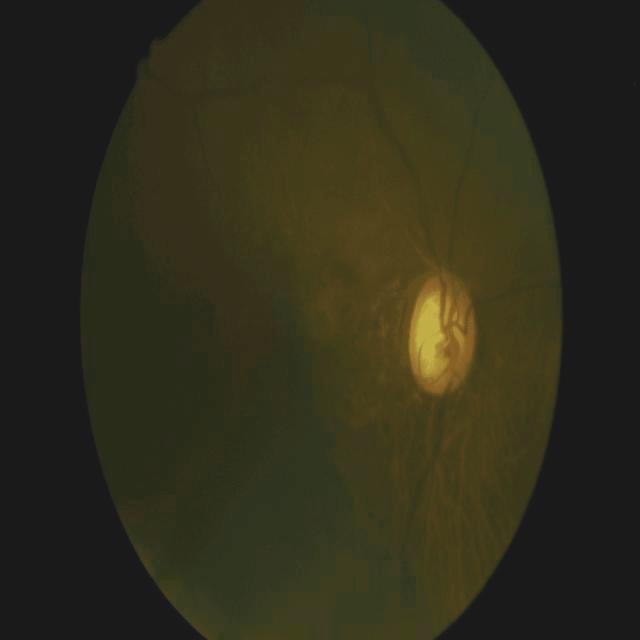cup: (414, 290, 466, 383)
disk: (408, 274, 480, 396)
